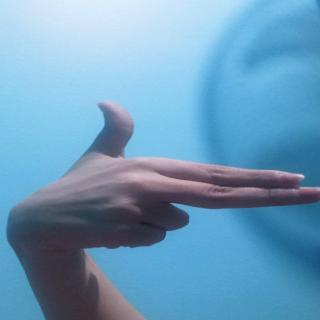GHAYN: (23, 92, 320, 248)
